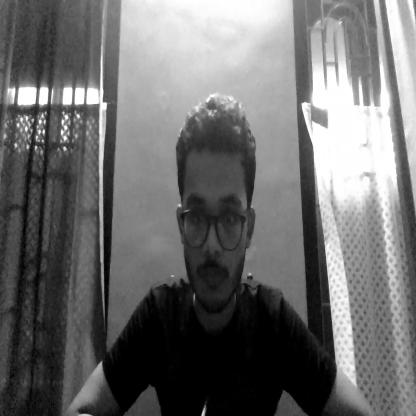Normal: (166, 98, 272, 298)
